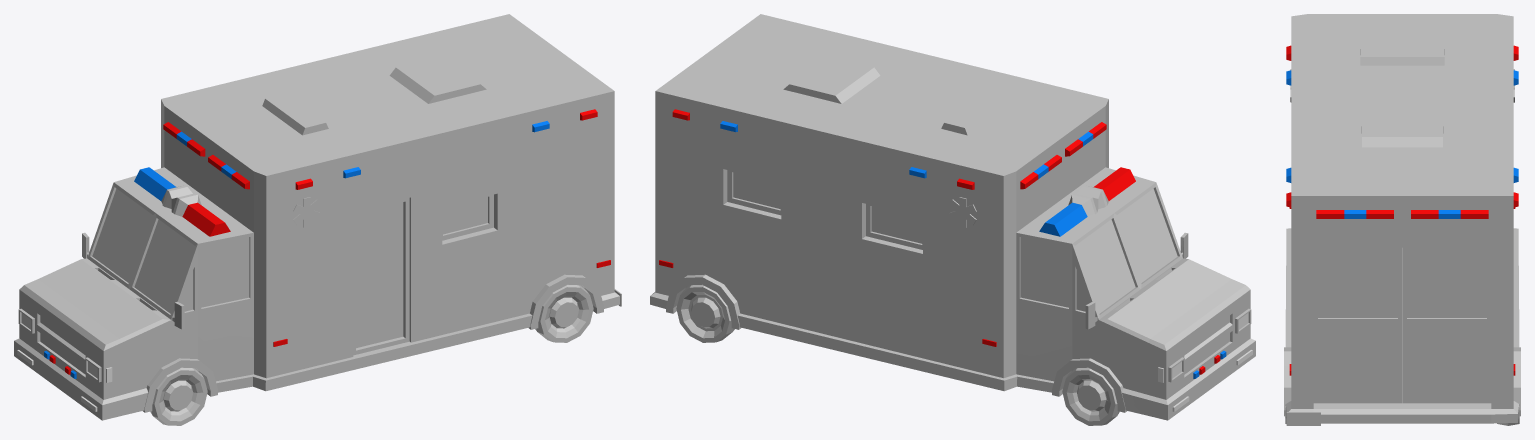
The model's file is Ambulance-Truck.fbx.
3 renders of one model, left to right at view 1: azimuth 30°, elevation 25°; view 2: azimuth 150°, elevation 25°; view 3: azimuth 270°, elevation 25°, orthographic. The views are drawn at different scales.
Visible parts, largest first — view 1: Ambulance-Truck; view 2: Ambulance-Truck; view 3: Ambulance-Truck.
Part boxes in pixels (bbox=[...]): Ambulance-Truck: bbox=[14, 14, 621, 425]; Ambulance-Truck: bbox=[650, 14, 1255, 425]; Ambulance-Truck: bbox=[1284, 14, 1520, 425].
Bounding box in the file's own units: 896 × 413 × 340.
